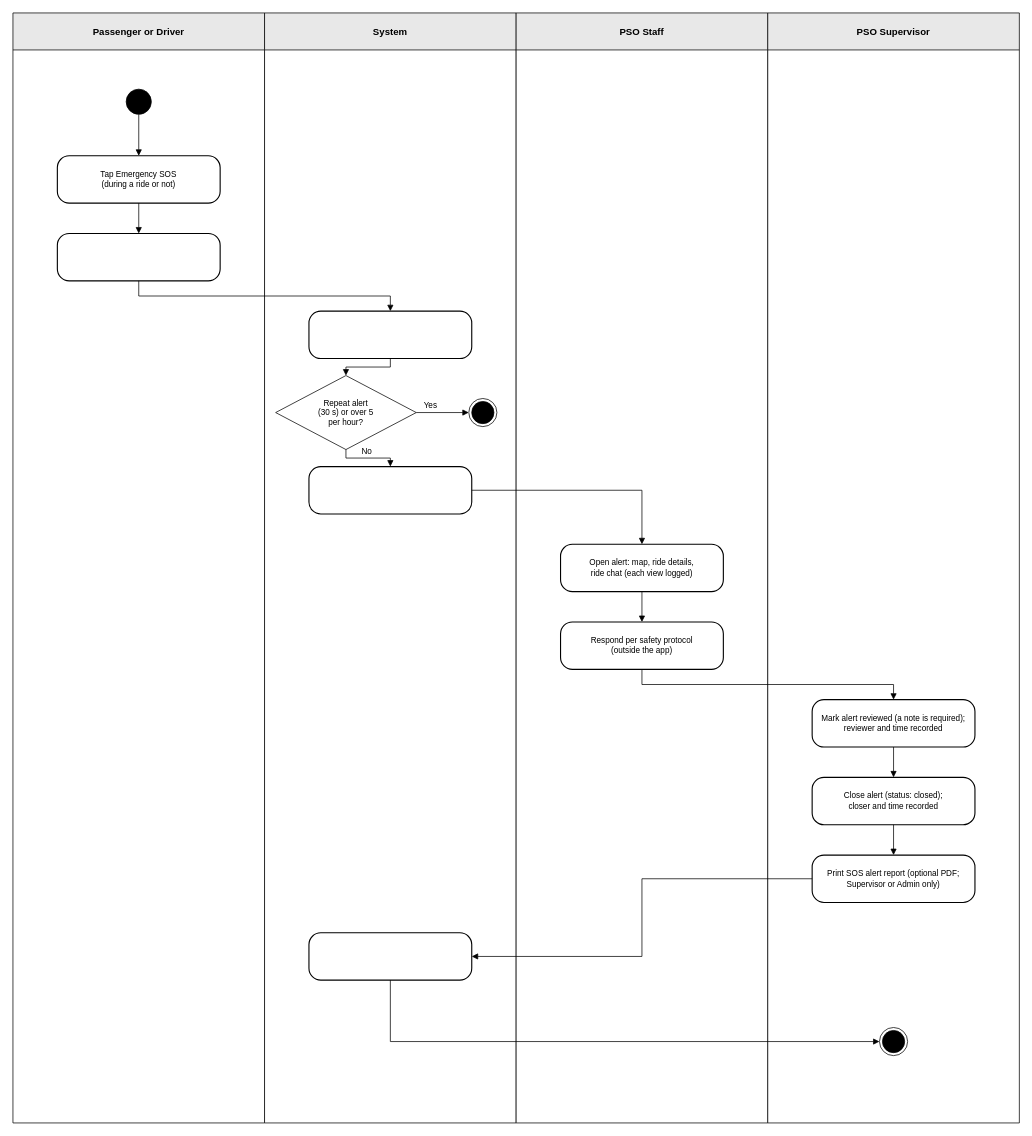
Some shapes in this 1032 by 1136 pixel diagram are drawn without their labels. Each missing label, with the centre of its shape:
"App sends current location" goes at (x=138, y=257).
"Closed" goes at (x=893, y=1041).
"Kept, PSO not re-notified" goes at (x=482, y=412).
"Notify all PSO staff (location and ride context)" goes at (x=390, y=490).
"Record alert (status: logged); link ride and other party" goes at (x=390, y=334).
"Record the print in the Case Print Log; issue a document number" goes at (x=390, y=956).
